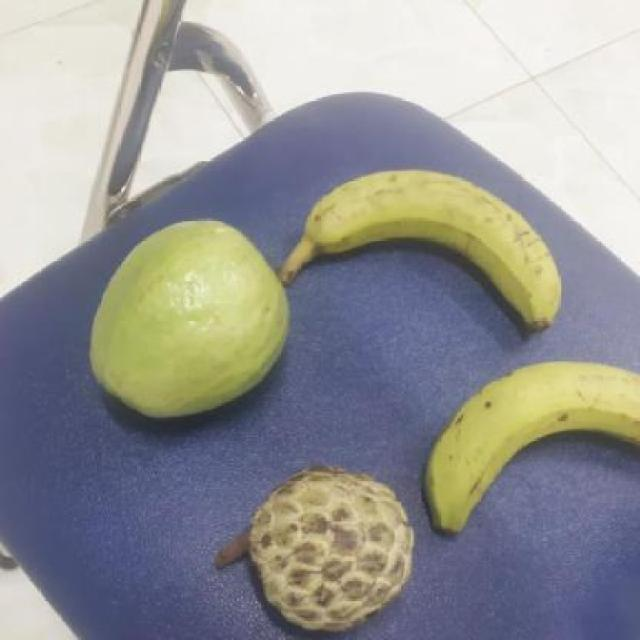banana: (272, 175, 550, 336), (421, 357, 640, 530)
guava: (81, 220, 288, 418)
sugar apple: (216, 463, 410, 634)
